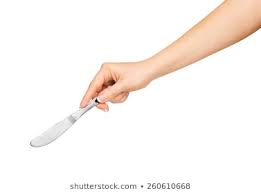knife: (14, 70, 128, 153)
